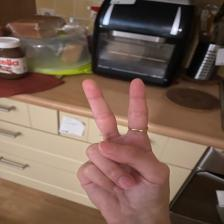two: (74, 76, 173, 215)
